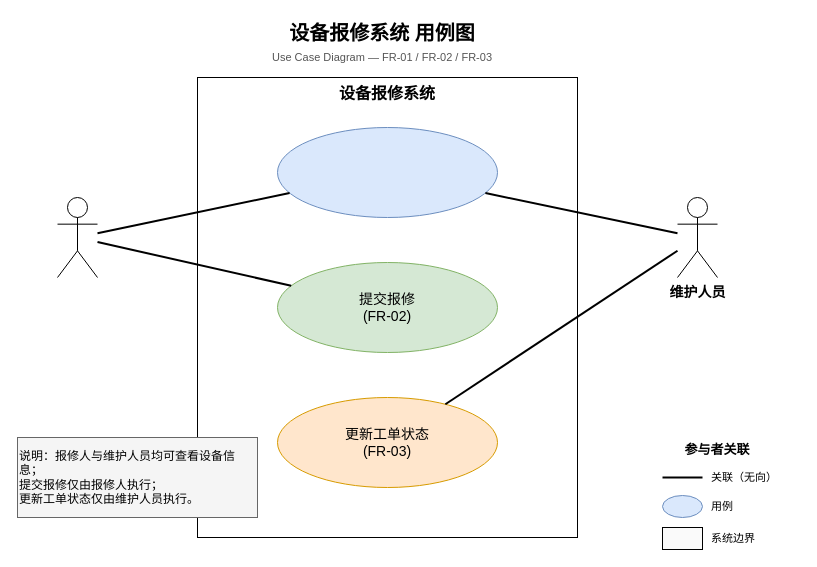
The diagram is 817 pixels wide and 567 high, and some of its shapes have lost their labels. Here are the shapes that lost their labels. From the top down, the box of each, then its label:
(276, 126, 498, 218): 查看设备信息 (FR-01)
(56, 196, 98, 278): 报修人
